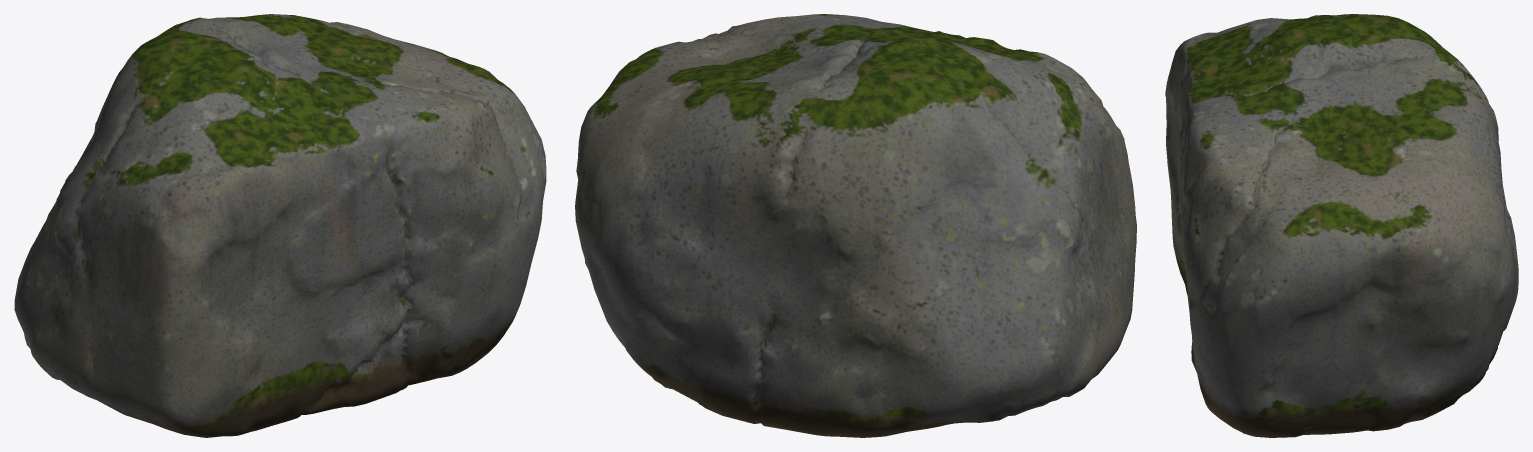
The model's file is GraniteBoulder.glb.
3 views of the same model, side by side, from view 1: azimuth 30°, elevation 25°; view 2: azimuth 150°, elevation 25°; view 3: azimuth 270°, elevation 25° (orthographic). The views are drawn at different scales.
Visible parts, largest first — view 1: granite-boulder; view 2: granite-boulder; view 3: granite-boulder.
Boxes of the visible parts, left/top/right/bottom form: granite-boulder: left=14, top=14, right=546, bottom=437; granite-boulder: left=575, top=14, right=1136, bottom=437; granite-boulder: left=1165, top=14, right=1518, bottom=437.
Bounding box in the file's own units: 1.56 × 0.9903 × 1.06.
1 material, 1 textured.
